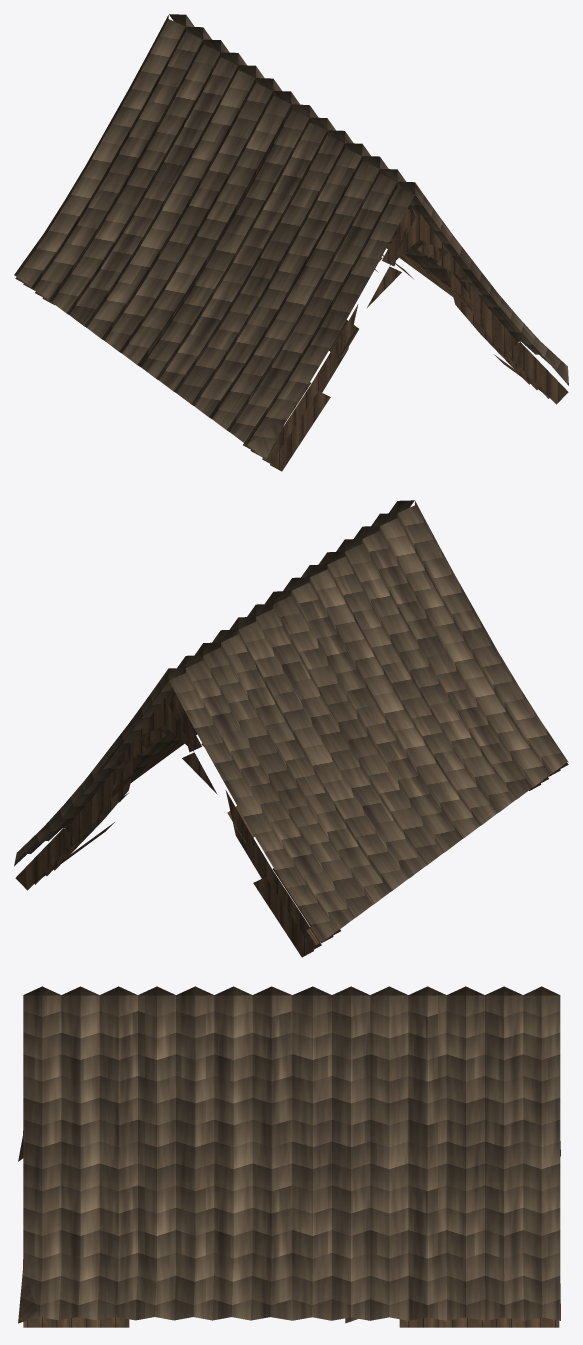
The model's file is Roof_Shingle_4x6_LOD1.gltf.
3 views of the same model, one above another, from view 1: azimuth 30°, elevation 25°; view 2: azimuth 150°, elevation 25°; view 3: azimuth 270°, elevation 25° (orthographic). The views are drawn at different scales.
Parts seen in each view (by area): view 1: Roof_Shingle_4x6_LOD1; view 2: Roof_Shingle_4x6_LOD1; view 3: Roof_Shingle_4x6_LOD1.
Part boxes in pixels (box(x1,y1,x2,y2)): Roof_Shingle_4x6_LOD1: box(14, 14, 568, 471); Roof_Shingle_4x6_LOD1: box(14, 500, 568, 957); Roof_Shingle_4x6_LOD1: box(18, 986, 560, 1327).
Bounding box in the file's own units: 5.51 × 4.01 × 7.57.
2 materials, 2 textured.
